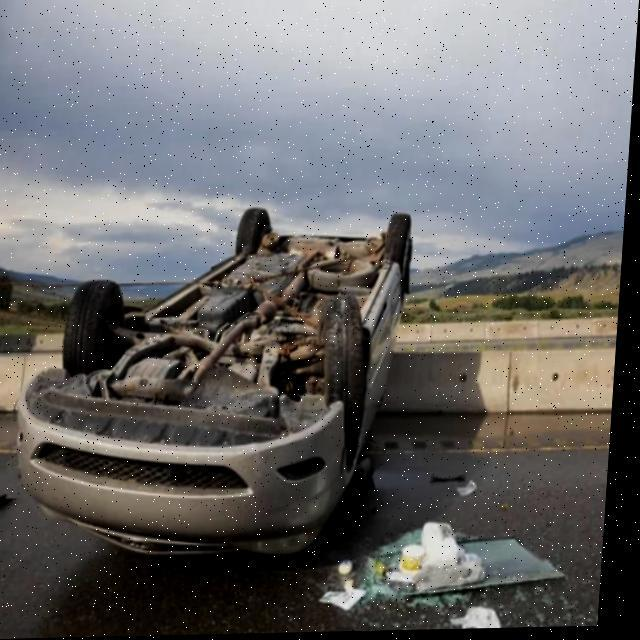single accident: (0, 120, 442, 593)
